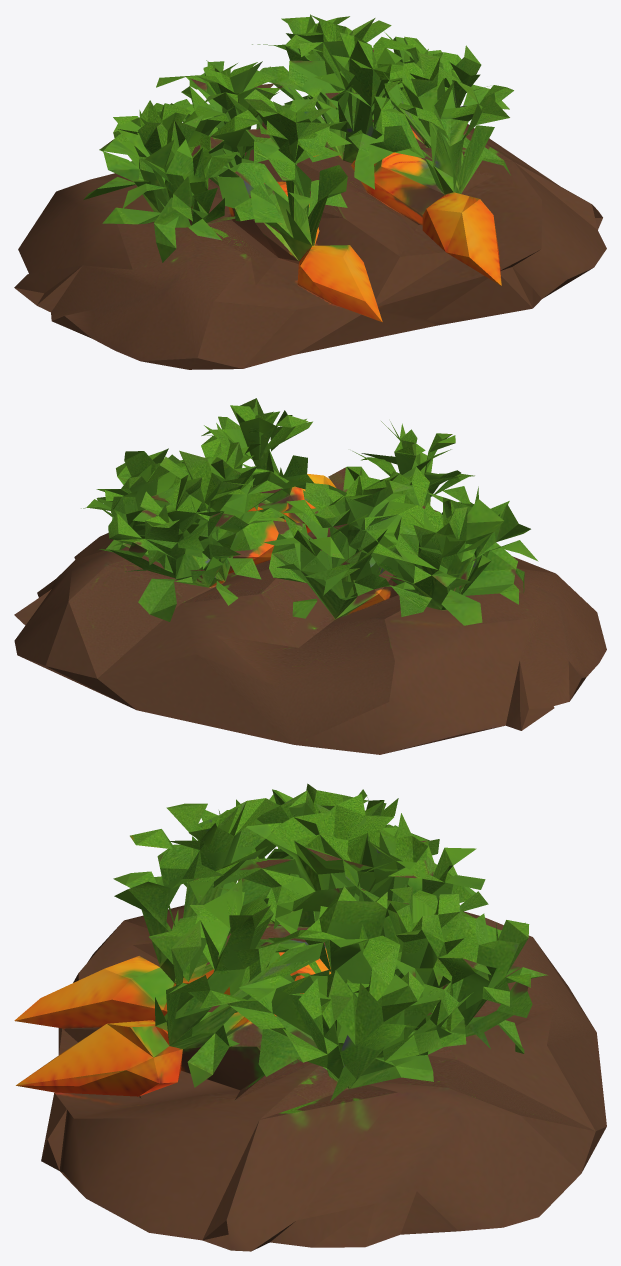
The model's file is carrots.glb.
3 views of the same model, one above another, from view 1: azimuth 30°, elevation 25°; view 2: azimuth 150°, elevation 25°; view 3: azimuth 270°, elevation 25° (orthographic). The views are drawn at different scales.
Size of the model in its own units: 1.88 by 0.6871 by 1.47.
1 material, 1 textured.
